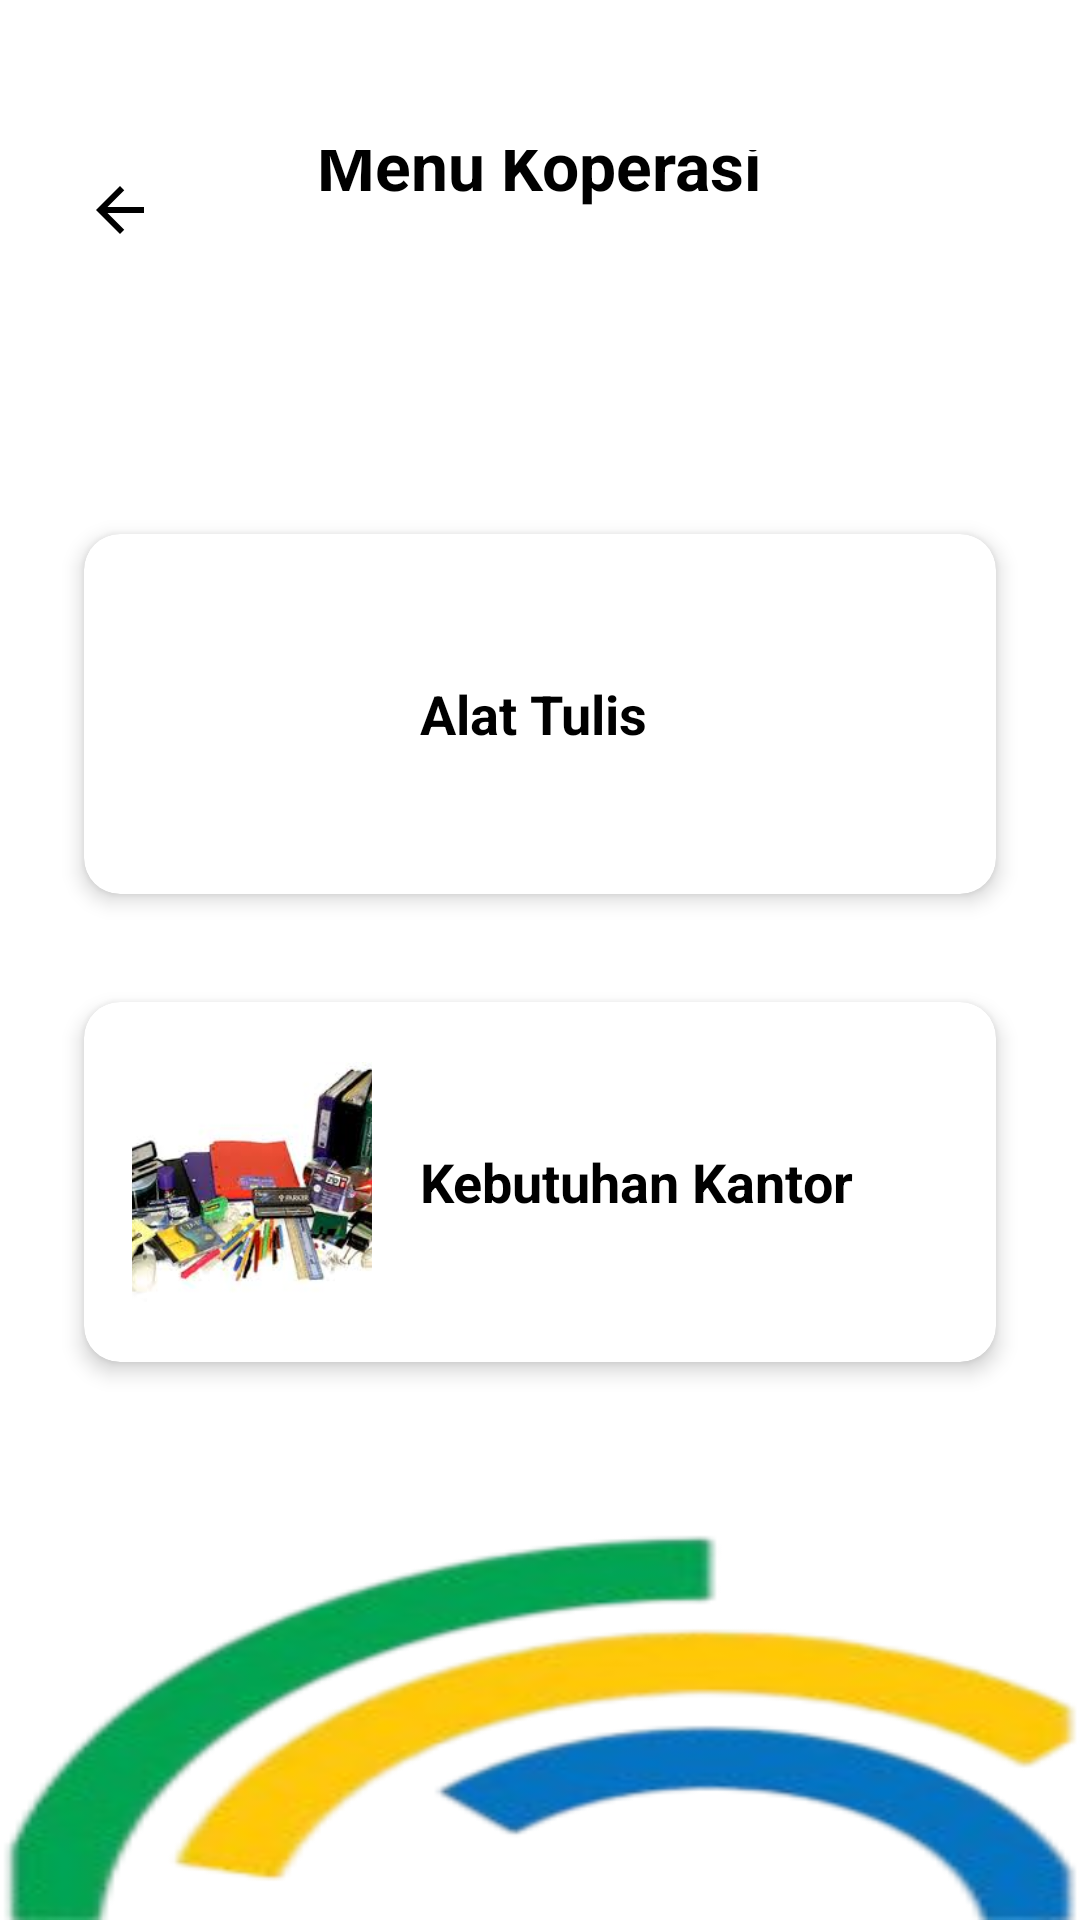

Locate icon controls on the screen. Image size 1080×1920, boxes as (x1, y1, x2, y2).
Tombol Kembali: (96, 186, 144, 234)
